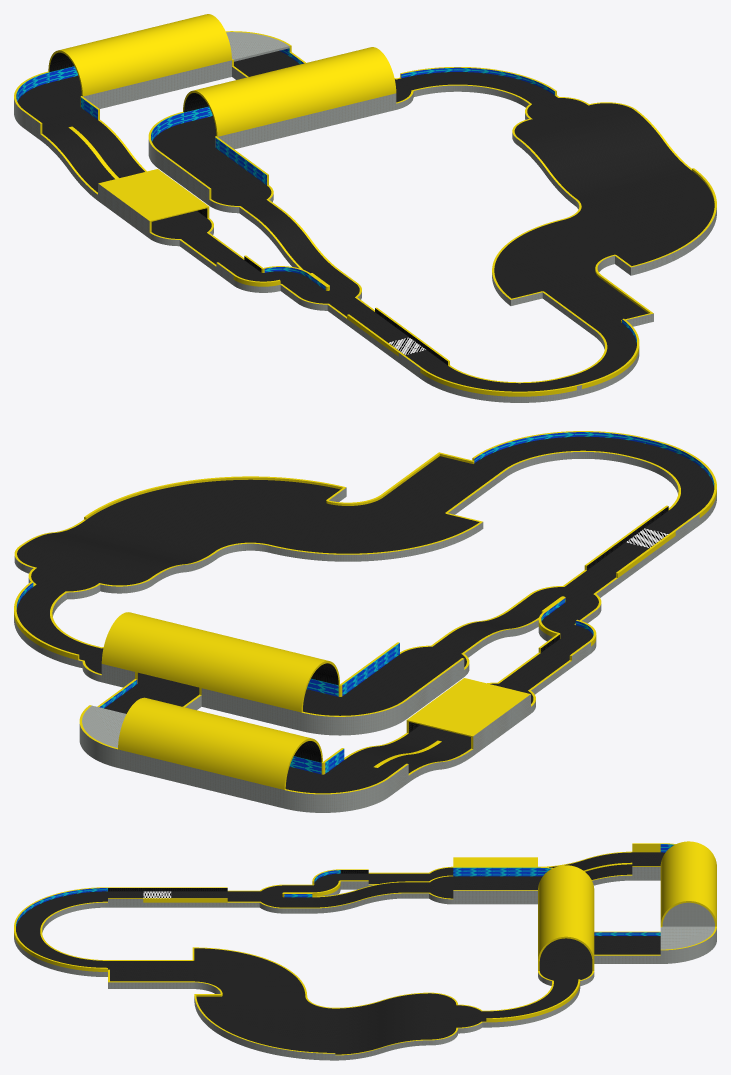
Rendered from track_advanced5.dae.
3 views of the same model, one above another, from view 1: azimuth 30°, elevation 25°; view 2: azimuth 150°, elevation 25°; view 3: azimuth 270°, elevation 25° (orthographic). The views are drawn at different scales.
Parts seen in each view (by area): view 1: SketchUp (×7); view 2: SketchUp (×6); view 3: SketchUp (×7).
Part boxes in pixels (box(x1,y1,x2,y2)): SketchUp (×7): box(14, 14, 716, 402); SketchUp (×6): box(14, 431, 716, 812); SketchUp (×7): box(14, 841, 716, 1060).
Bounding box in the file's own units: 18701 × 29452 × 2509.
